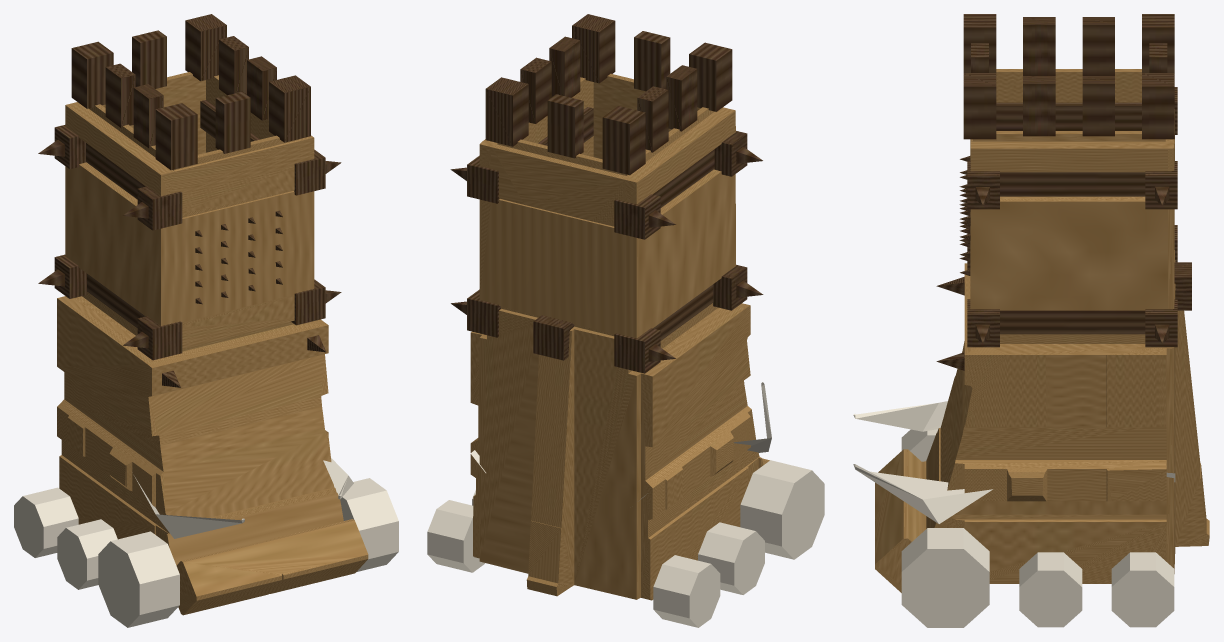
The model's file is ae_siege_tower_open_lod0.glb.
3 renders of one model, left to right at view 1: azimuth 30°, elevation 25°; view 2: azimuth 150°, elevation 25°; view 3: azimuth 270°, elevation 25°, orthographic. The views are drawn at different scales.
Parts seen in each view (by area): view 1: siege_tower_open; view 2: siege_tower_open; view 3: siege_tower_open.
Part boxes in pixels (box(x1,y1,x2,y2)): siege_tower_open: box(14, 14, 398, 627); siege_tower_open: box(427, 14, 824, 627); siege_tower_open: box(853, 14, 1209, 627).
Bounding box in the file's own units: 46.39 × 82.22 × 51.97.
3 materials, 2 textured.
